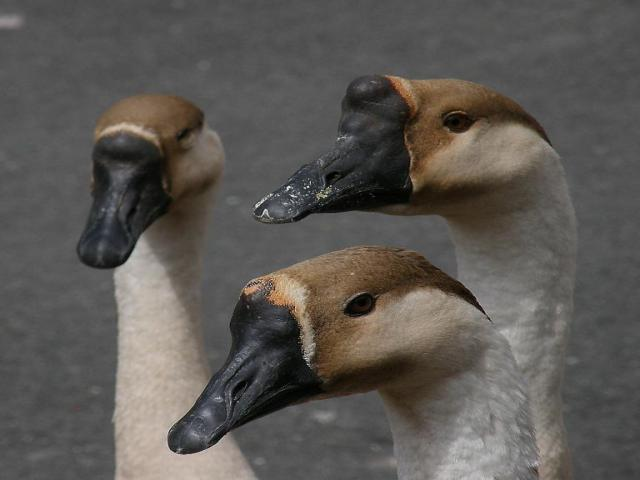Bird: (252, 74, 578, 480), (167, 243, 538, 480), (77, 94, 276, 480)
